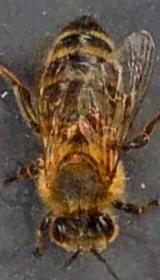varroa_mite: (77, 106, 108, 132)
